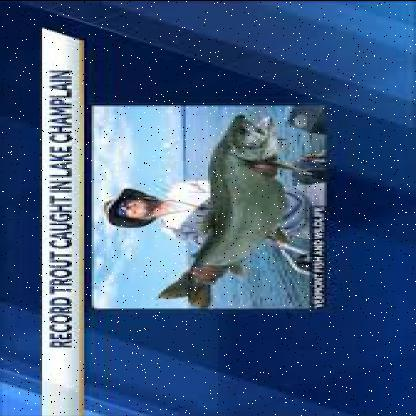fish: (157, 114, 285, 308)
